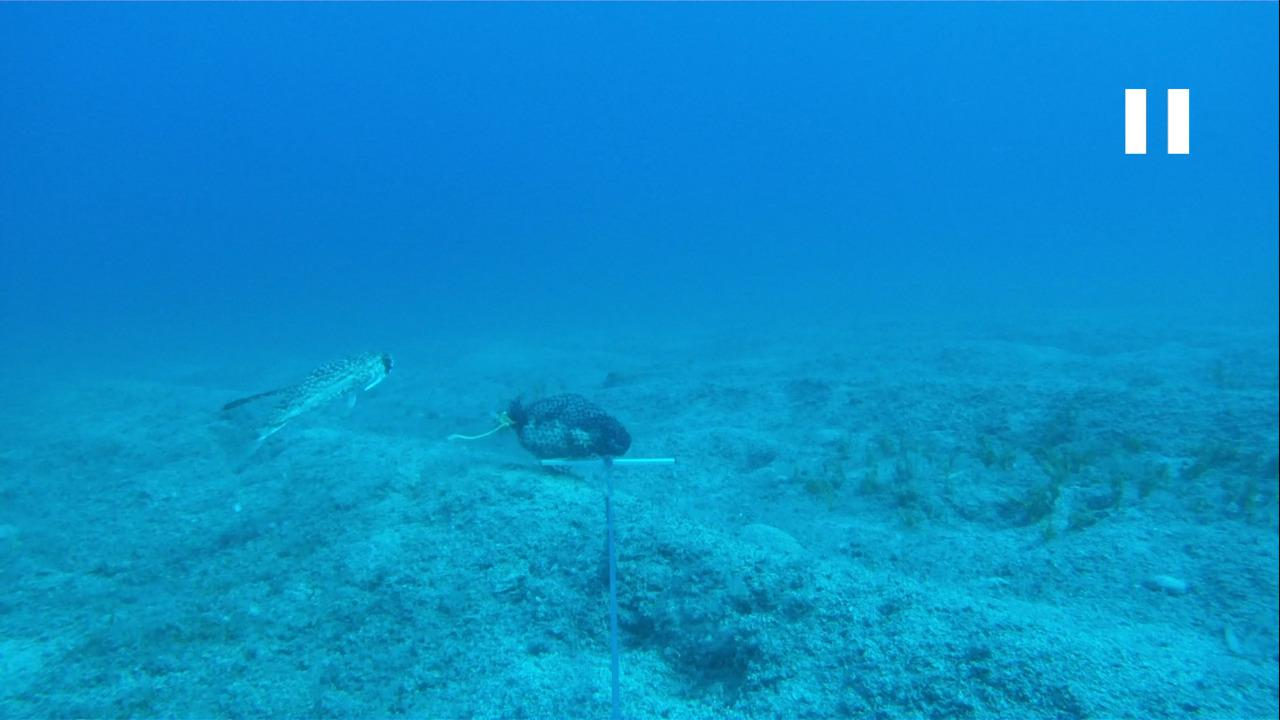dactylopterus: (209, 346, 403, 483)
